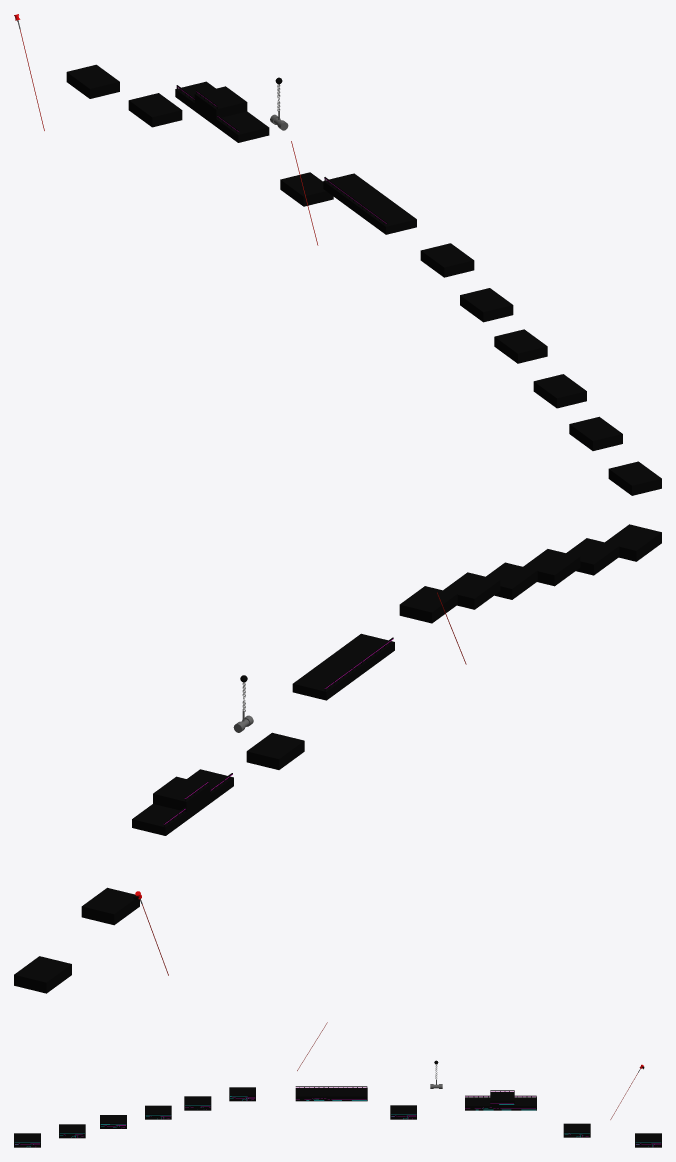
File: parkur.fbx
3 views of the same model, one above another, from view 1: azimuth 30°, elevation 25°; view 2: azimuth 150°, elevation 25°; view 3: azimuth 270°, elevation 25° (orthographic). The views are drawn at different scales.
Visible parts, largest first — view 1: Cube.209, Cube.206, Cube.204, Cube.121, Cube.207, Cube.211, Cube.205, Cube.212, Cube.208; view 2: Cube.209, Cube.206, Cube.121, Cube.204, Cube.207, Cube.208, Cube.212, Cube.211, Cube.205; view 3: Cube.209, Cube.206, Cube.121, Cube.204, Cube.205, Cube.211, Cube.207, Cube.208, Cube.212.
Boxes of the visible parts, bbox=[...] form: Cube.209: bbox=[175, 81, 269, 142]; Cube.206: bbox=[323, 173, 416, 234]; Cube.204: bbox=[494, 329, 586, 408]; Cube.121: bbox=[569, 416, 661, 495]; Cube.207: bbox=[420, 243, 474, 277]; Cube.211: bbox=[128, 93, 182, 127]; Cube.205: bbox=[460, 288, 513, 322]; Cube.212: bbox=[66, 64, 119, 98]; Cube.208: bbox=[280, 172, 333, 206]; Cube.209: bbox=[132, 769, 233, 835]; Cube.206: bbox=[292, 633, 394, 700]; Cube.121: bbox=[566, 524, 661, 575]; Cube.204: bbox=[486, 549, 580, 599]; Cube.207: bbox=[399, 586, 457, 623]; Cube.208: bbox=[246, 732, 304, 769]; Cube.212: bbox=[14, 956, 71, 993]; Cube.211: bbox=[81, 887, 139, 925]; Cube.205: bbox=[443, 572, 500, 609]; Cube.209: bbox=[465, 1090, 536, 1110]; Cube.206: bbox=[295, 1086, 367, 1101]; Cube.121: bbox=[14, 1124, 85, 1147]; Cube.204: bbox=[100, 1105, 171, 1128]; Cube.205: bbox=[184, 1096, 211, 1110]; Cube.211: bbox=[563, 1123, 590, 1137]; Cube.207: bbox=[229, 1087, 255, 1101]; Cube.208: bbox=[390, 1105, 416, 1119]; Cube.212: bbox=[635, 1133, 661, 1147].
Size of the model in its own units: 645 by 1055 by 6317.
